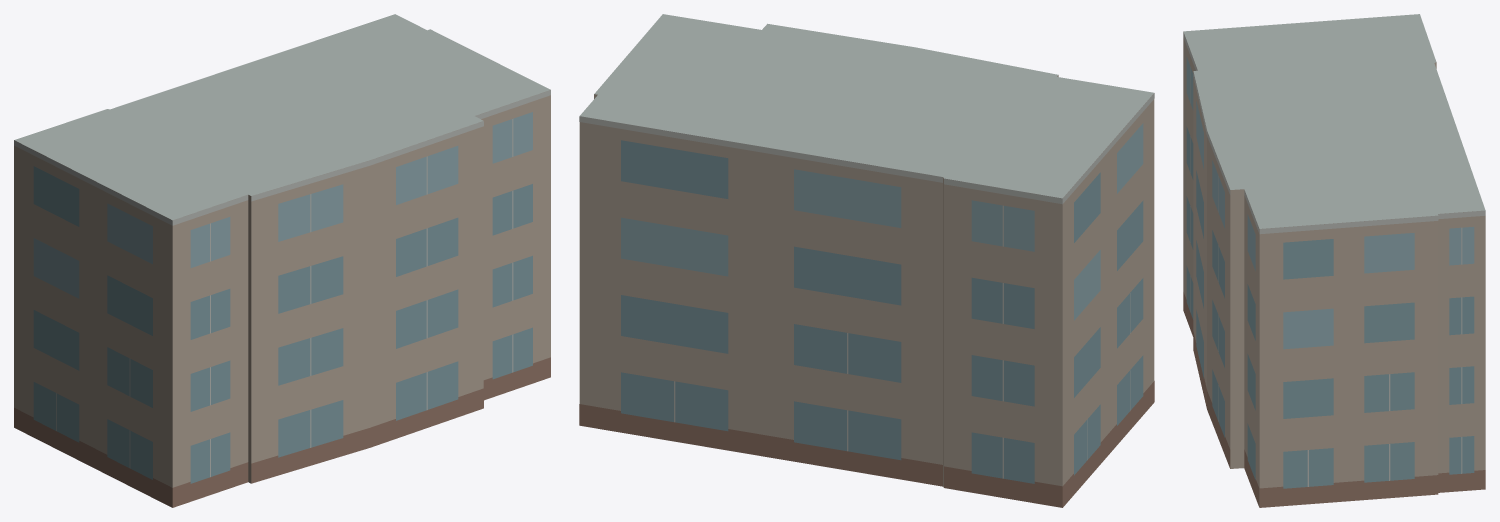
File: survey-upis-32659492.glb
3 views of the same model, side by side, from view 1: azimuth 30°, elevation 25°; view 2: azimuth 150°, elevation 25°; view 3: azimuth 270°, elevation 25° (orthographic). The views are drawn at different scales.
Visible parts, largest first — view 1: survey-upis-32659492.tmp; view 2: survey-upis-32659492.tmp; view 3: survey-upis-32659492.tmp.
Part boxes in pixels (<box>): survey-upis-32659492.tmp: <box>14,14,550,507</box>; survey-upis-32659492.tmp: <box>579,14,1154,507</box>; survey-upis-32659492.tmp: <box>1183,14,1485,507</box>.
Size of the model in its own units: 21.33 by 12.9 by 12.68.
